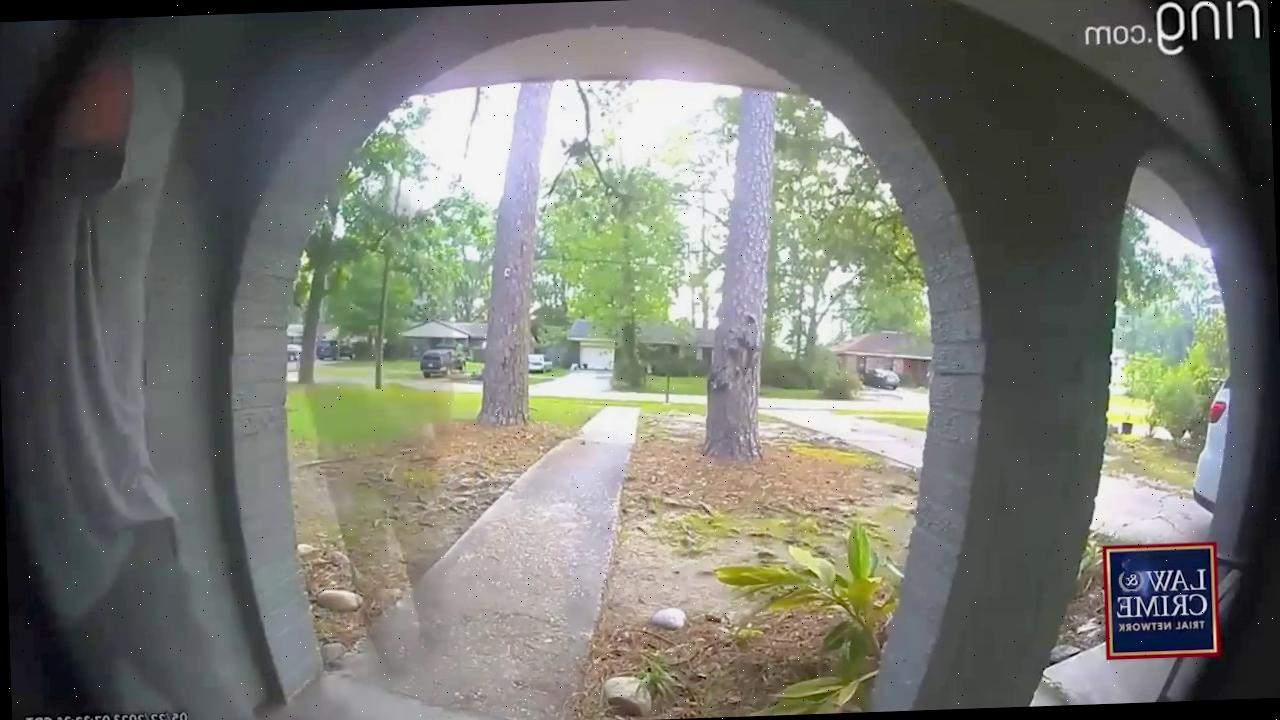suspicion: (0, 13, 273, 720)
